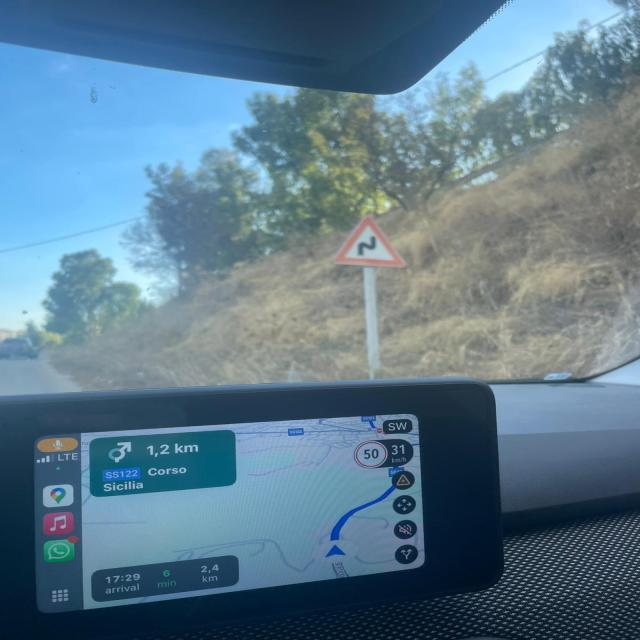warn_double_curve: (332, 214, 404, 267)
